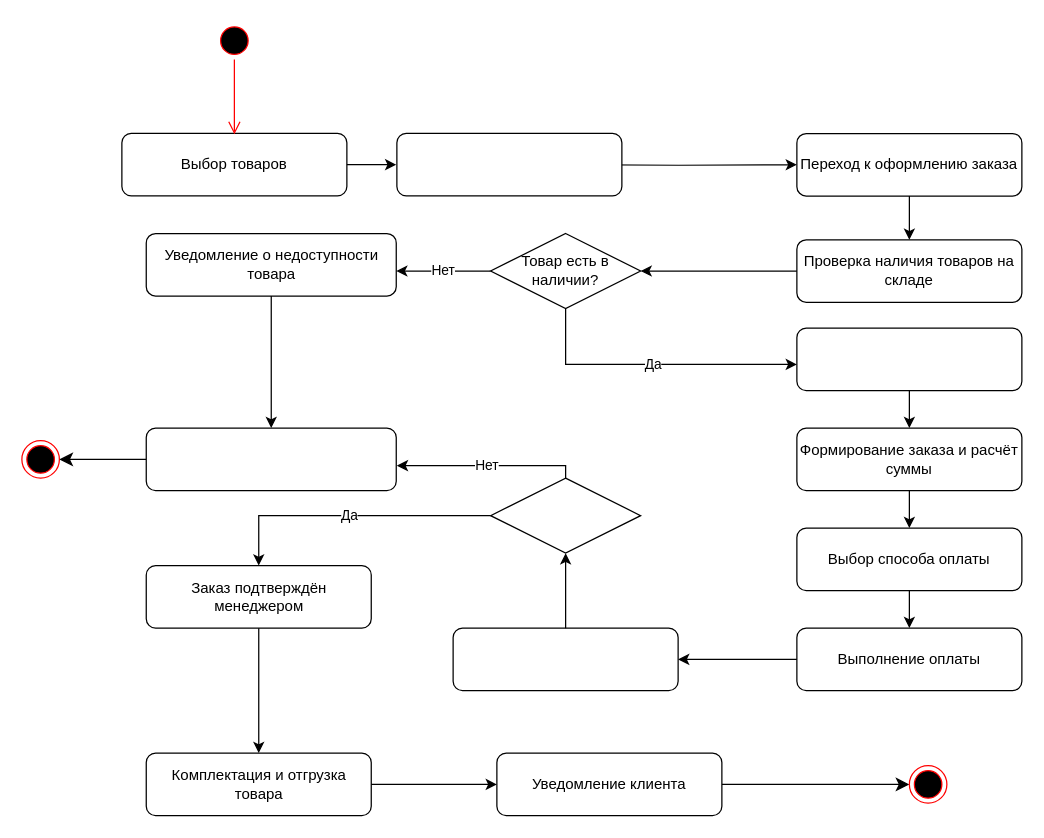
The diagram is 1044 pixels wide and 838 high, and some of its shapes have lost their labels. Each missing label, with the centre of its shape:
"добавление в корзину" belongs at pixel 509 164.
"Заказ отменён" belongs at pixel 270 459.
"Заполнение данных доставки" belongs at pixel 909 359.
"Оплата успешна?" belongs at pixel 565 515.
"Проверка статуса оплаты через банк" belongs at pixel 565 659.
